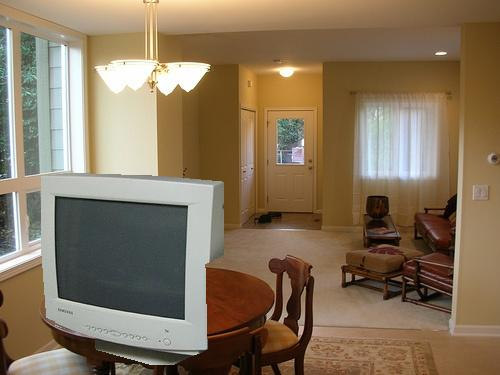tampered: (42, 174, 224, 365)
